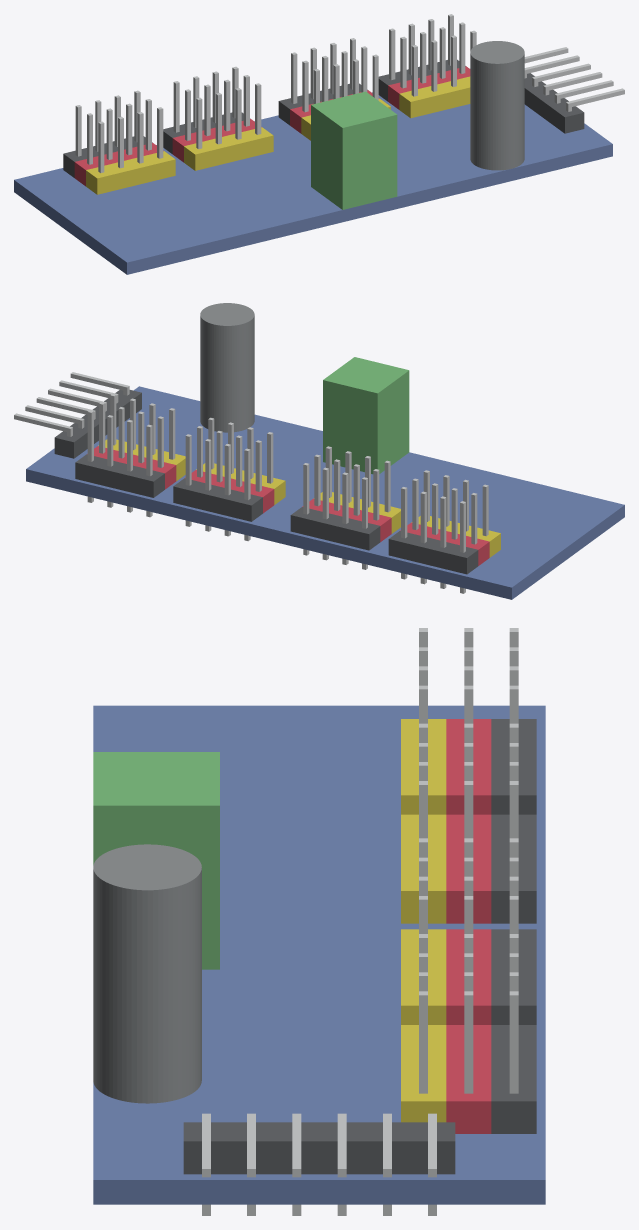
The model's file is Modulo PCA9685.glb.
The picture shows the model from 3 angles, top to bottom: view 1: azimuth 30°, elevation 25°; view 2: azimuth 150°, elevation 25°; view 3: azimuth 270°, elevation 25°; orthographic projection. The views are drawn at different scales.
Parts seen in each view (by area): view 1: Mesh_Mesh_head_geo.001_lambert2SG.001; view 2: Mesh_Mesh_head_geo.001_lambert2SG.001; view 3: Mesh_Mesh_head_geo.001_lambert2SG.001.
Boxes of the visible parts, left/top/right/bottom form: Mesh_Mesh_head_geo.001_lambert2SG.001: left=14, top=14, right=624, bottom=274; Mesh_Mesh_head_geo.001_lambert2SG.001: left=14, top=303, right=624, bottom=599; Mesh_Mesh_head_geo.001_lambert2SG.001: left=93, top=628, right=545, bottom=1215.
Bounding box in the file's own units: 67 × 16 × 25.
